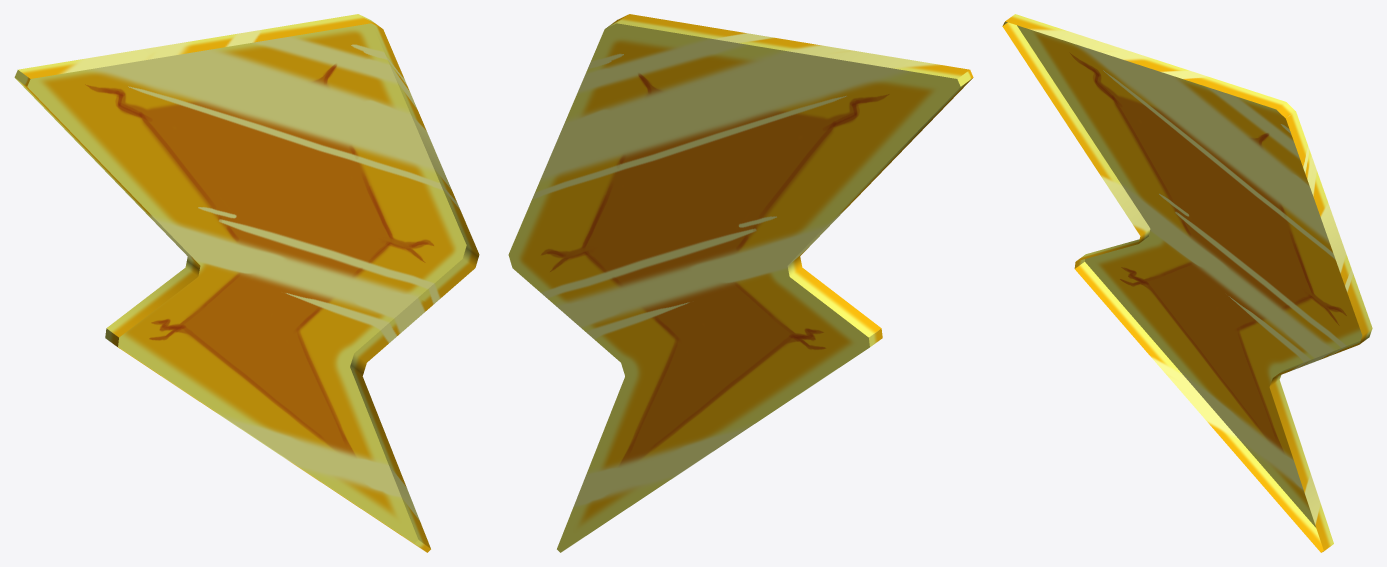
The model's file is GAM0110030.fbx.
The picture shows the model from 3 angles, left to right: view 1: azimuth 30°, elevation 25°; view 2: azimuth 150°, elevation 25°; view 3: azimuth 330°, elevation 25°; orthographic projection. The views are drawn at different scales.
Parts seen in each view (by area): view 1: smGAM0110030; view 2: smGAM0110030; view 3: smGAM0110030.
Part boxes in pixels (bbox=[...]): smGAM0110030: bbox=[14, 14, 479, 552]; smGAM0110030: bbox=[508, 14, 973, 552]; smGAM0110030: bbox=[1002, 14, 1372, 552].
Bounding box in the file's own units: 45.62 × 55.02 × 2.23.
1 material, 1 textured.
